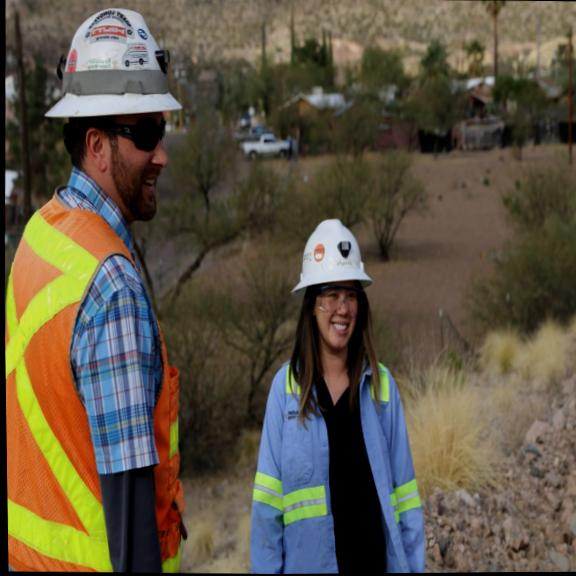no_safety_vest: (248, 360, 409, 574)
safety_vest: (3, 190, 188, 574)
